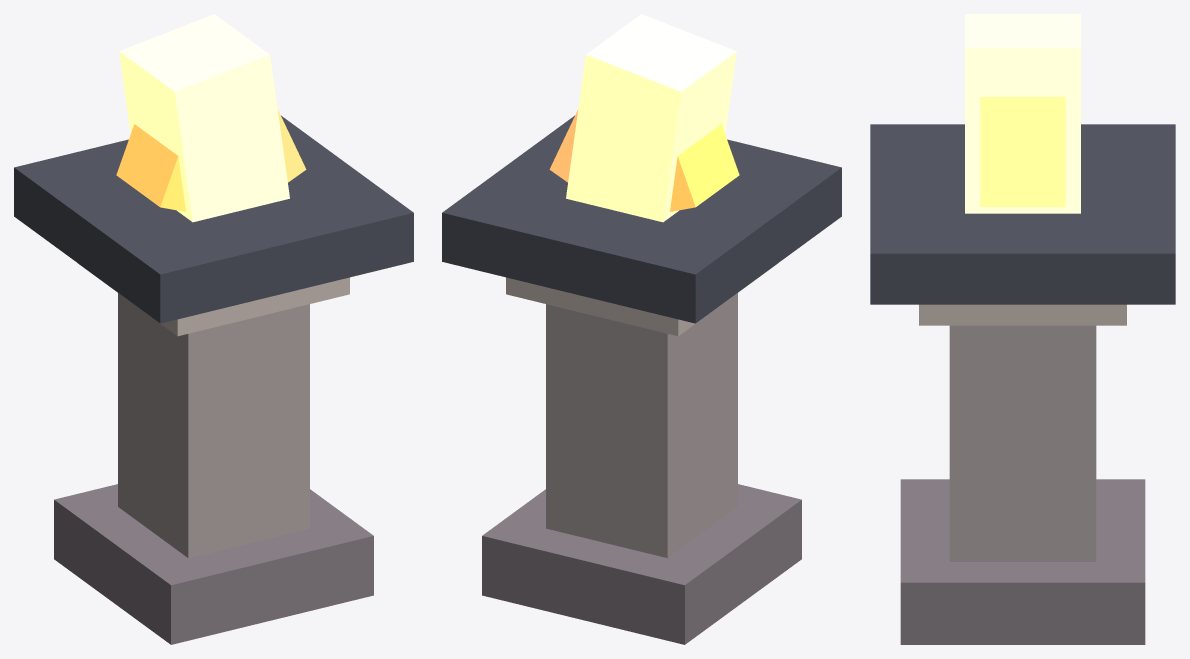
File: menu_brazier.glb
3 renders of one model, left to right at view 1: azimuth 30°, elevation 25°; view 2: azimuth 150°, elevation 25°; view 3: azimuth 270°, elevation 25°, orthographic. The views are drawn at different scales.
Visible parts, largest first — view 1: Moonpost Warm Road Brazier; view 2: Moonpost Warm Road Brazier; view 3: Moonpost Warm Road Brazier.
Boxes of the visible parts, <box> form: Moonpost Warm Road Brazier: <box>14,14,413,644</box>; Moonpost Warm Road Brazier: <box>442,14,841,644</box>; Moonpost Warm Road Brazier: <box>870,14,1175,644</box>.
Size of the model in its own units: 2 by 4.04 by 2.
